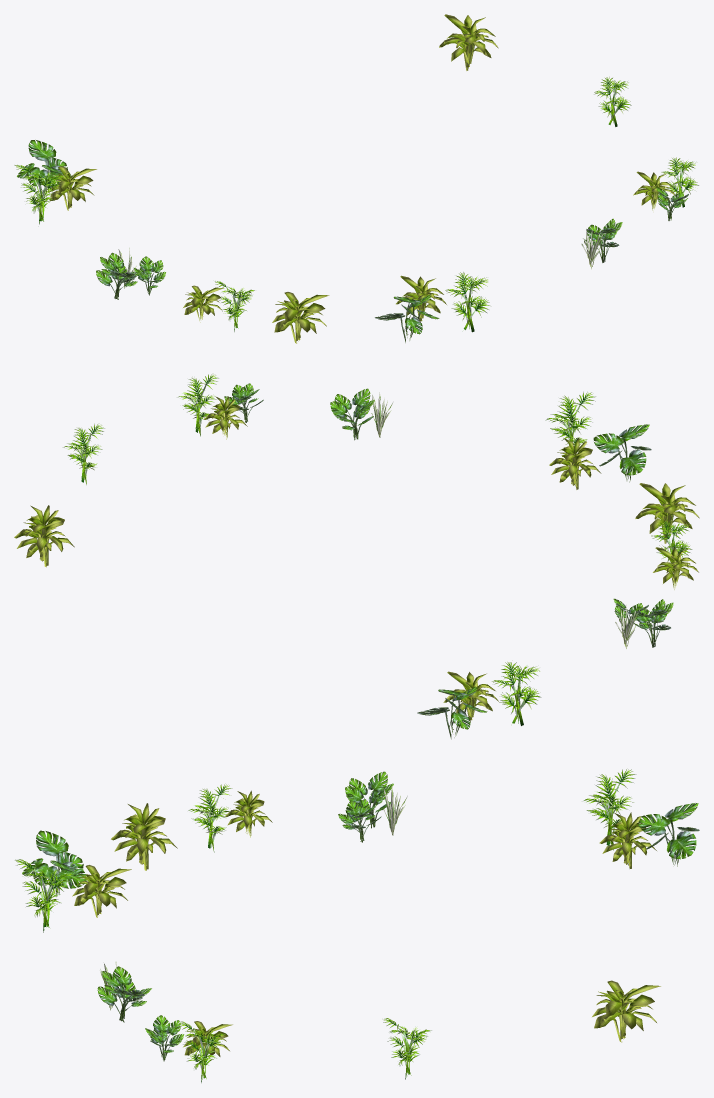
File: mesh_large_plant_all.glb
The picture shows the model from 3 angles, top to bottom: view 1: azimuth 30°, elevation 25°; view 2: azimuth 150°, elevation 25°; view 3: azimuth 270°, elevation 25°; orthographic projection. The views are drawn at different scales.
Visible parts, largest first — view 1: mesh_large_plant_1_tut, mesh_large_plant_2_tut, mesh_large_plant_5_tut, mesh_large_plant_3_tut; view 2: mesh_large_plant_1_tut, mesh_large_plant_2_tut, mesh_large_plant_5_tut, mesh_large_plant_3_tut, mesh_large_plant_4_tut; view 3: mesh_large_plant_1_tut, mesh_large_plant_2_tut, mesh_large_plant_5_tut, mesh_large_plant_3_tut, mesh_large_plant_4_tut.
Boxes of the visible parts, x1=… form: mesh_large_plant_1_tut: x1=48, y1=14, x2=675, y2=343; mesh_large_plant_2_tut: x1=14, y1=77, x2=698, y2=332; mesh_large_plant_5_tut: x1=96, y1=187, x2=688, y2=299; mesh_large_plant_3_tut: x1=17, y1=140, x2=439, y2=342; mesh_large_plant_1_tut: x1=14, y1=396, x2=699, y2=722; mesh_large_plant_2_tut: x1=62, y1=374, x2=692, y2=725; mesh_large_plant_5_tut: x1=224, y1=383, x2=673, y2=647; mesh_large_plant_3_tut: x1=417, y1=424, x2=651, y2=739; mesh_large_plant_4_tut: x1=371, y1=392, x2=639, y2=648; mesh_large_plant_1_tut: x1=72, y1=790, x2=660, y2=1056; mesh_large_plant_2_tut: x1=15, y1=769, x2=636, y2=1082; mesh_large_plant_5_tut: x1=97, y1=771, x2=393, y2=1061; mesh_large_plant_3_tut: x1=22, y1=803, x2=699, y2=896; mesh_large_plant_4_tut: x1=100, y1=786, x2=407, y2=1010.
Size of the model in its own units: 14.63 by 2.5 by 13.46.
1 material, 1 textured.
